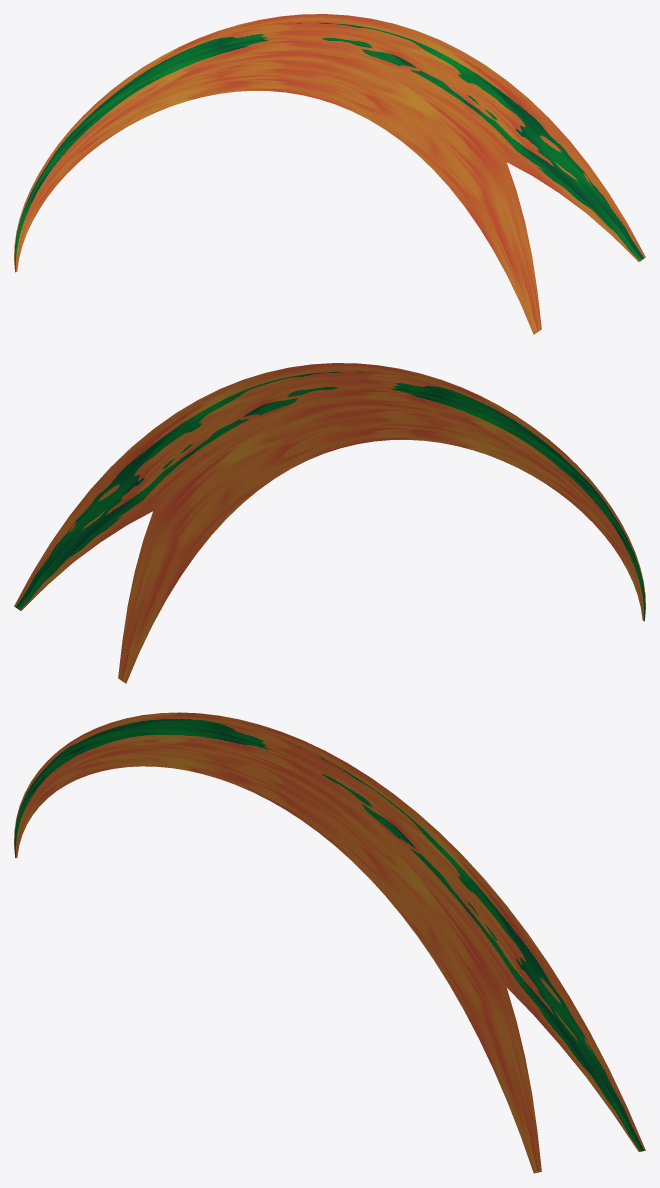
The model's file is p_trashbot_loop_sprinkler04_pose0.fbx.
3 renders of one model, top to bottom at view 1: azimuth 30°, elevation 25°; view 2: azimuth 150°, elevation 25°; view 3: azimuth 330°, elevation 25°, orthographic.
Parts seen in each view (by area): view 1: p_sprinkler_plane_04_pose0; view 2: p_sprinkler_plane_04_pose0; view 3: p_sprinkler_plane_04_pose0.
Part boxes in pixels (x1,y1,x2,y2): p_sprinkler_plane_04_pose0: (14,14,645,334); p_sprinkler_plane_04_pose0: (14,363,645,683); p_sprinkler_plane_04_pose0: (14,712,645,1173).
Bounding box in the file's own units: 124 × 71.61 × 8.9e-06.
